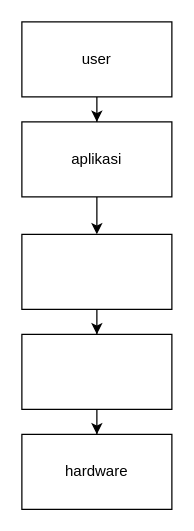
The diagram is 194 pixels wide and 531 high, and some of its shapes have lost their labels. The centre of each missing label's shape, as x and y in pixels:
"kernel" goes at (96,371).
"system call" goes at (96,271).
